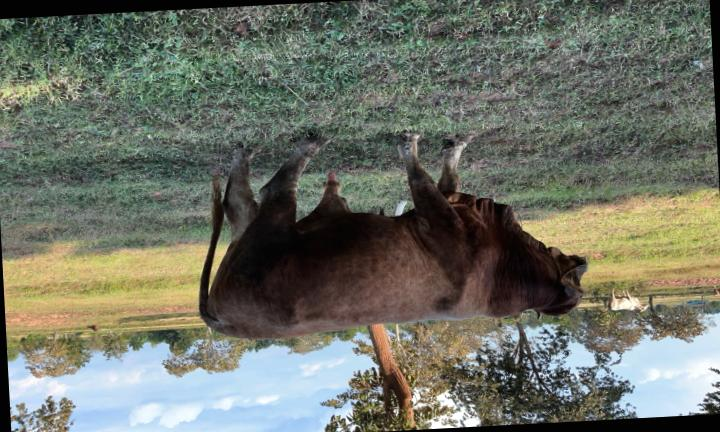Charolais: (199, 132, 587, 338)
